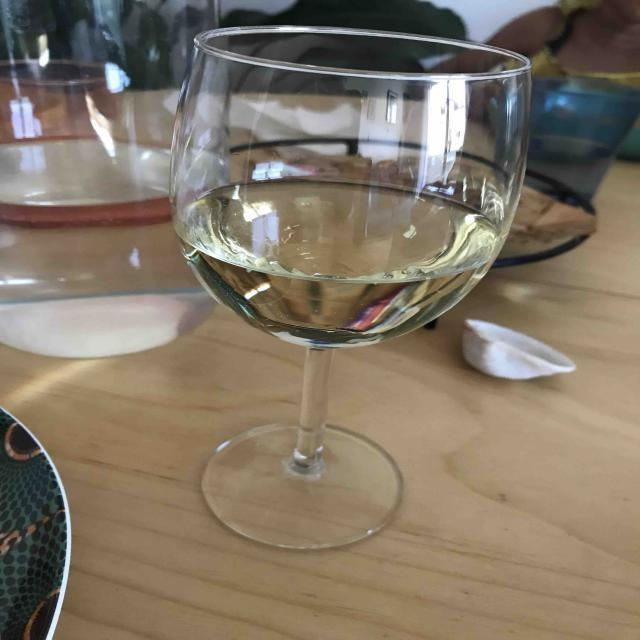wine: (187, 178, 499, 342)
